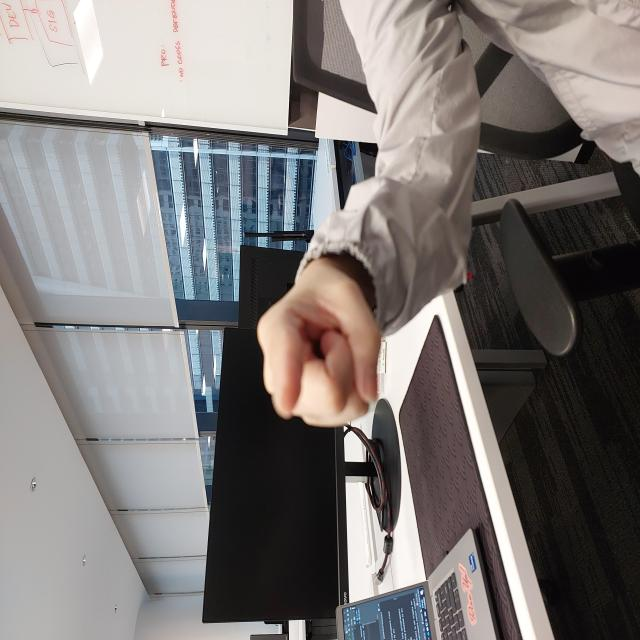Z: (214, 257, 381, 381)
